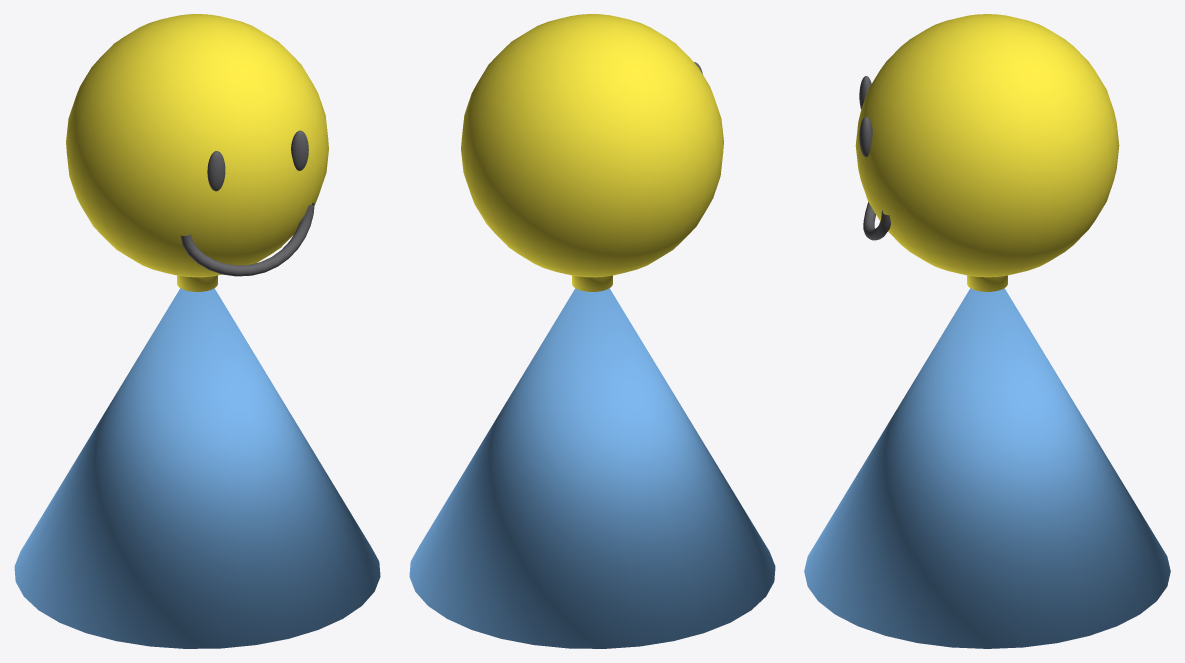
Rendered from char1_bak.glb.
3 views of the same model, side by side, from view 1: azimuth 30°, elevation 25°; view 2: azimuth 150°, elevation 25°; view 3: azimuth 270°, elevation 25° (orthographic).
Visible parts, largest first — view 1: Body_Dress, Head, Mouth, Eye, Eye.001, Neck; view 2: Body_Dress, Head, Neck; view 3: Body_Dress, Head, Mouth, Neck.
Part boxes in pixels (x1,y1,x2,y2): Body_Dress: [14, 288, 380, 648]; Head: [66, 14, 328, 277]; Mouth: [180, 202, 314, 276]; Eye: [207, 151, 225, 191]; Eye.001: [291, 130, 308, 170]; Neck: [177, 275, 217, 291]; Body_Dress: [409, 288, 775, 648]; Head: [461, 14, 723, 277]; Neck: [572, 275, 612, 291]; Body_Dress: [804, 288, 1170, 648]; Head: [855, 14, 1119, 277]; Mouth: [863, 202, 890, 240]; Neck: [967, 275, 1007, 291].
Bounding box in the file's own units: 3.2 × 5.25 × 3.2.
